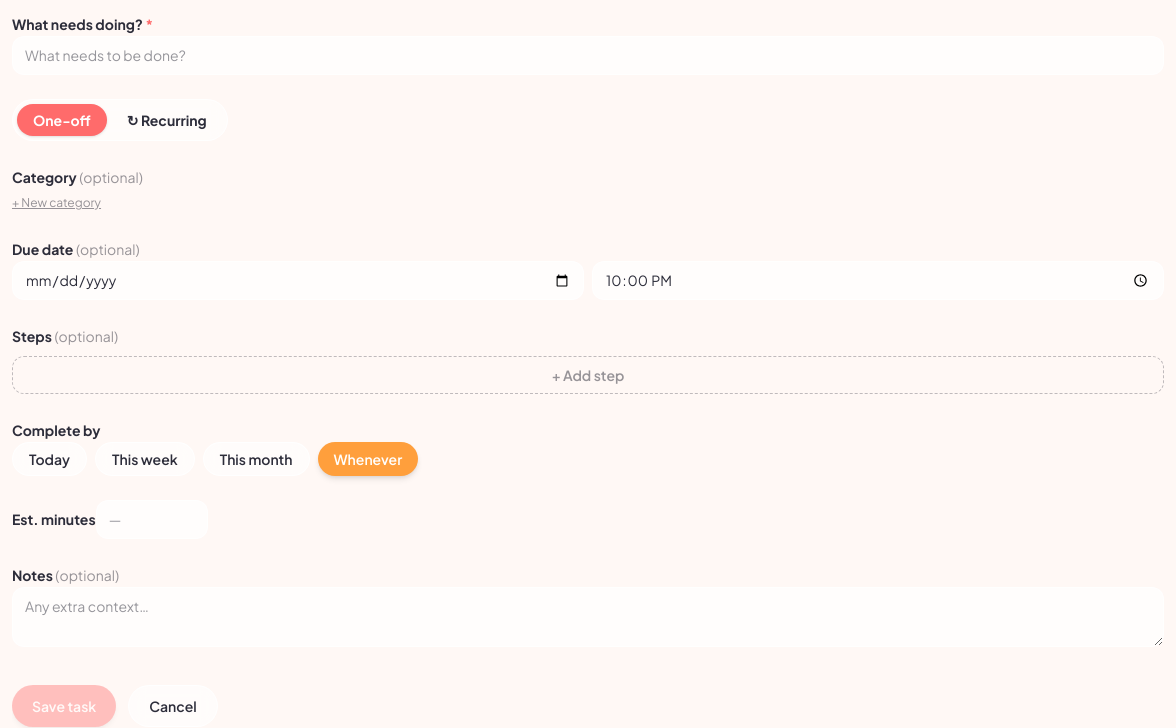
Test: TaskForm › adds a step that appears in the form
What coordinates should you click on to do the following:
click the button "+ Add step"
I would click on:
 (588, 375)
Its box is [12,356,1164,394].
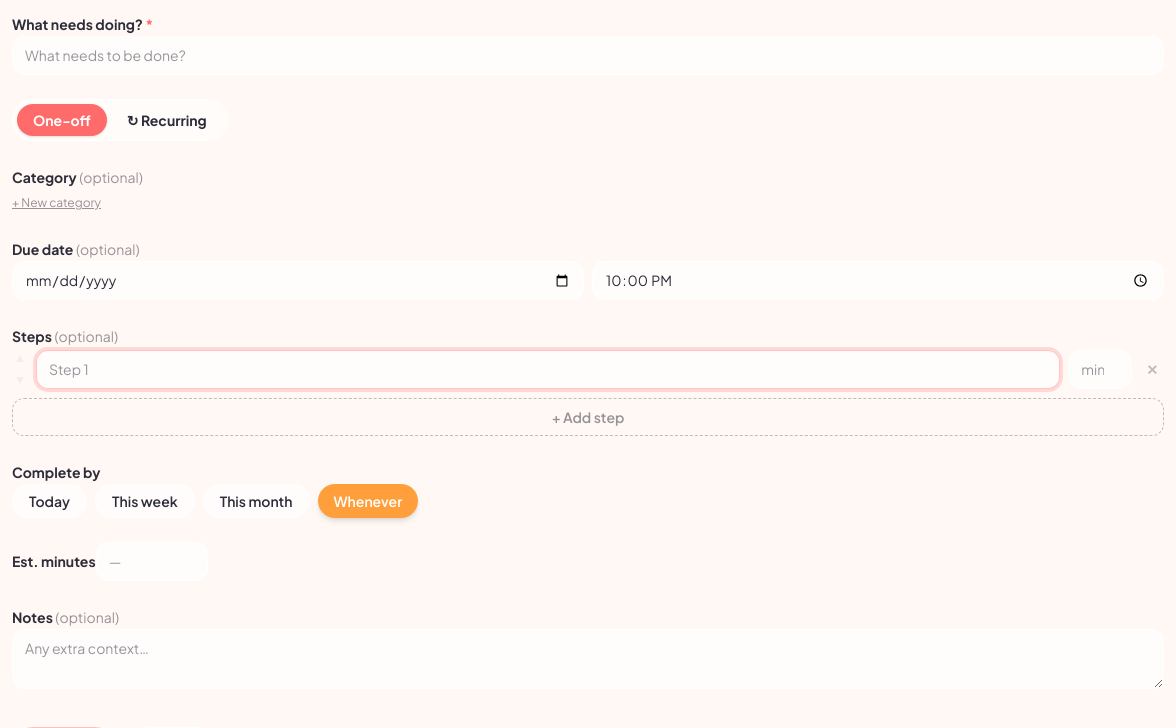
Now the field with placeholder "Step 1" is shown, box [36,350,1060,388]
